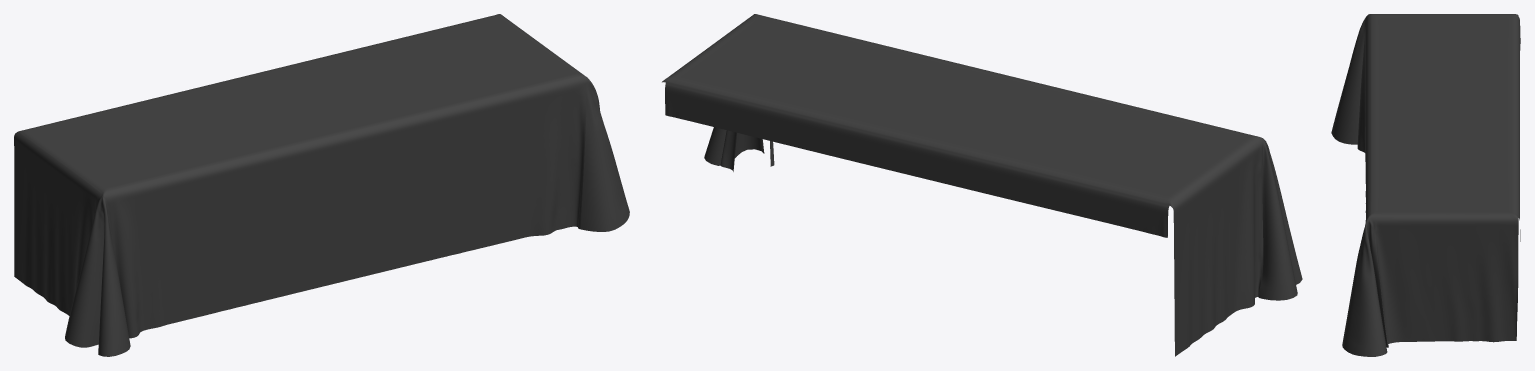
The model's file is throw-8ft-3.glb.
3 views of the same model, side by side, from view 1: azimuth 30°, elevation 25°; view 2: azimuth 150°, elevation 25°; view 3: azimuth 270°, elevation 25° (orthographic). The views are drawn at different scales.
Visible parts, largest first — view 1: geometry_0; view 2: geometry_0; view 3: geometry_0.
Part boxes in pixels (x1,y1,x2,y2): geometry_0: (14,14,629,356); geometry_0: (662,14,1302,356); geometry_0: (1331,14,1520,356).
Bounding box in the file's own units: 2.8 × 0.7122 × 0.9532.
Materials: 1 (1 with a texture image).
